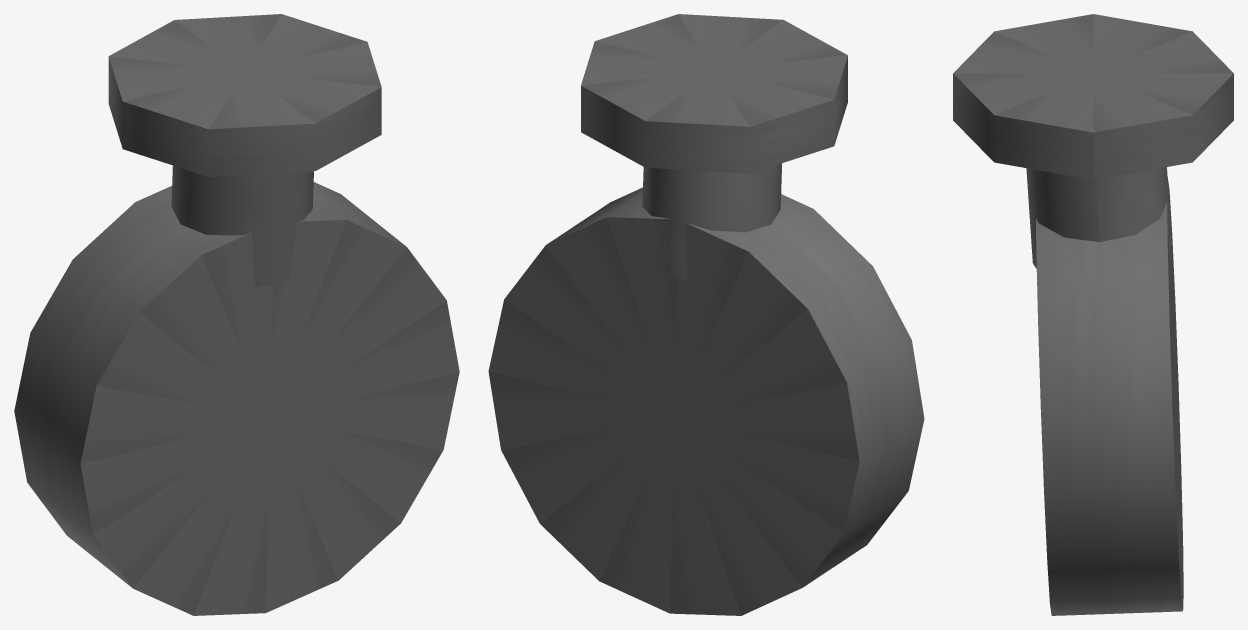
Rendered from mastarmcurve_5x1_c5_up.obj.
3 renders of one model, left to right at view 1: azimuth 30°, elevation 25°; view 2: azimuth 150°, elevation 25°; view 3: azimuth 270°, elevation 25°, orthographic. The views are drawn at different scales.
Parts seen in each view (by area): view 1: mastarm_5x1_c5_up; view 2: mastarm_5x1_c5_up; view 3: mastarm_5x1_c5_up.
Boxes of the visible parts, x1=… form: mastarm_5x1_c5_up: x1=14, y1=14, x2=459, y2=615; mastarm_5x1_c5_up: x1=488, y1=14, x2=924, y2=615; mastarm_5x1_c5_up: x1=953, y1=14, x2=1233, y2=615.
Size of the model in its own units: 0.6197 by 0.8216 by 0.4.
